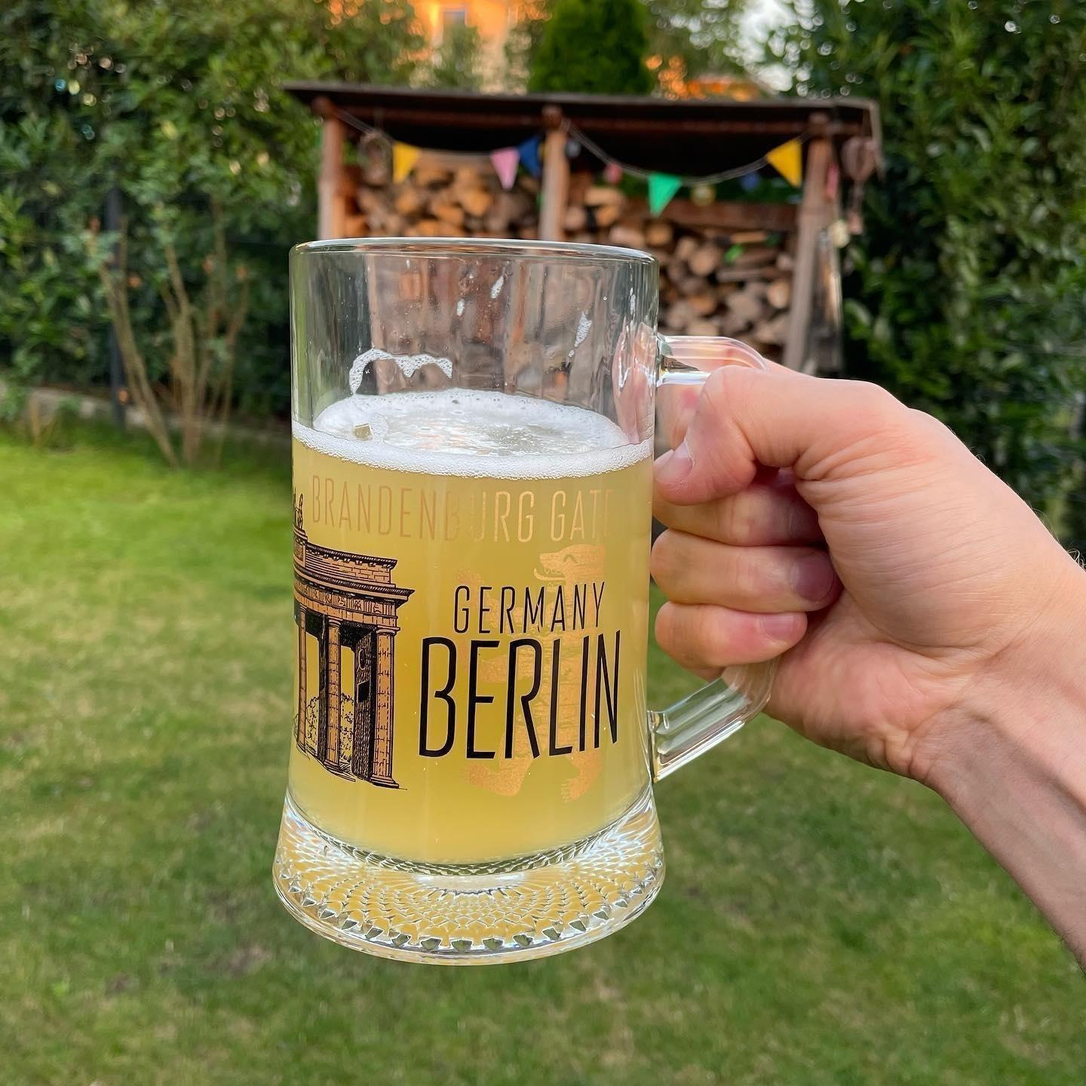glass-mug: (257, 204, 803, 967)
